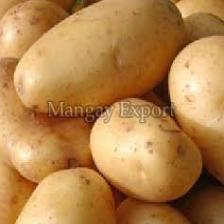Potato: (12, 0, 181, 108), (0, 55, 98, 180), (90, 94, 202, 203), (164, 34, 224, 190), (7, 165, 119, 223)
